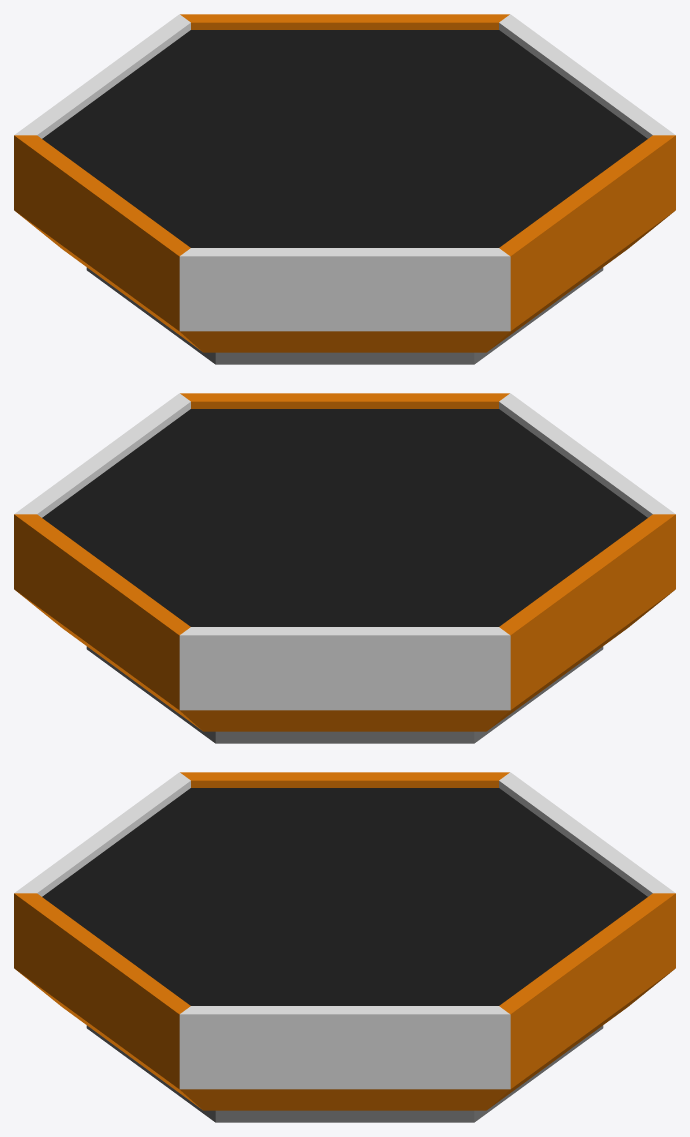
Rendered from platform.fbx.
3 renders of one model, top to bottom at view 1: azimuth 30°, elevation 25°; view 2: azimuth 150°, elevation 25°; view 3: azimuth 270°, elevation 25°, orthographic.
Visible parts, largest first — view 1: Cylinder; view 2: Cylinder; view 3: Cylinder.
Boxes of the visible parts, x1=… form: Cylinder: x1=14, y1=14, x2=675, y2=364; Cylinder: x1=14, y1=393, x2=675, y2=743; Cylinder: x1=14, y1=772, x2=675, y2=1122.
Bounding box in the file's own units: 240 × 208 × 70.27.
